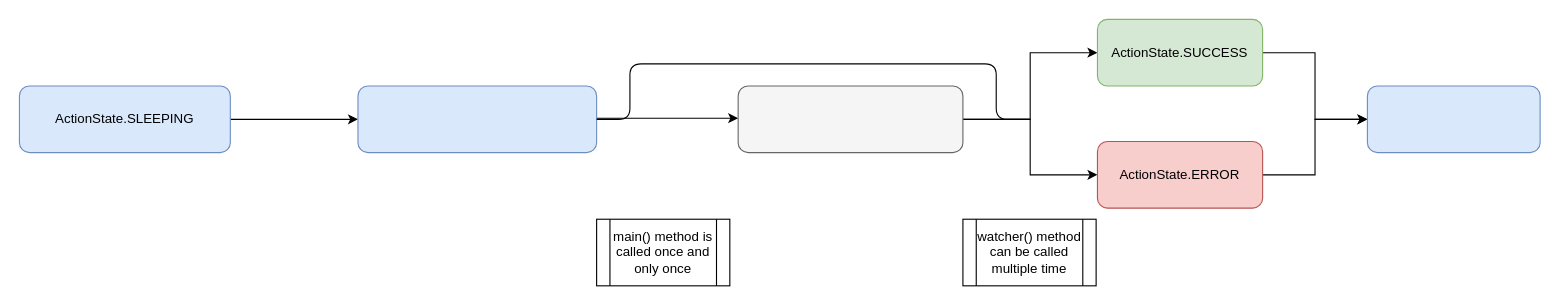
This 1560x305 diagram has some shape labels left out. Each missing label, with the centre of its shape:
ActionState.CLOSED: point (1453, 119)
ActionState.EXECUTING_MAIN: point (477, 119)
ActionState.IN_PROGRESS: point (850, 119)
